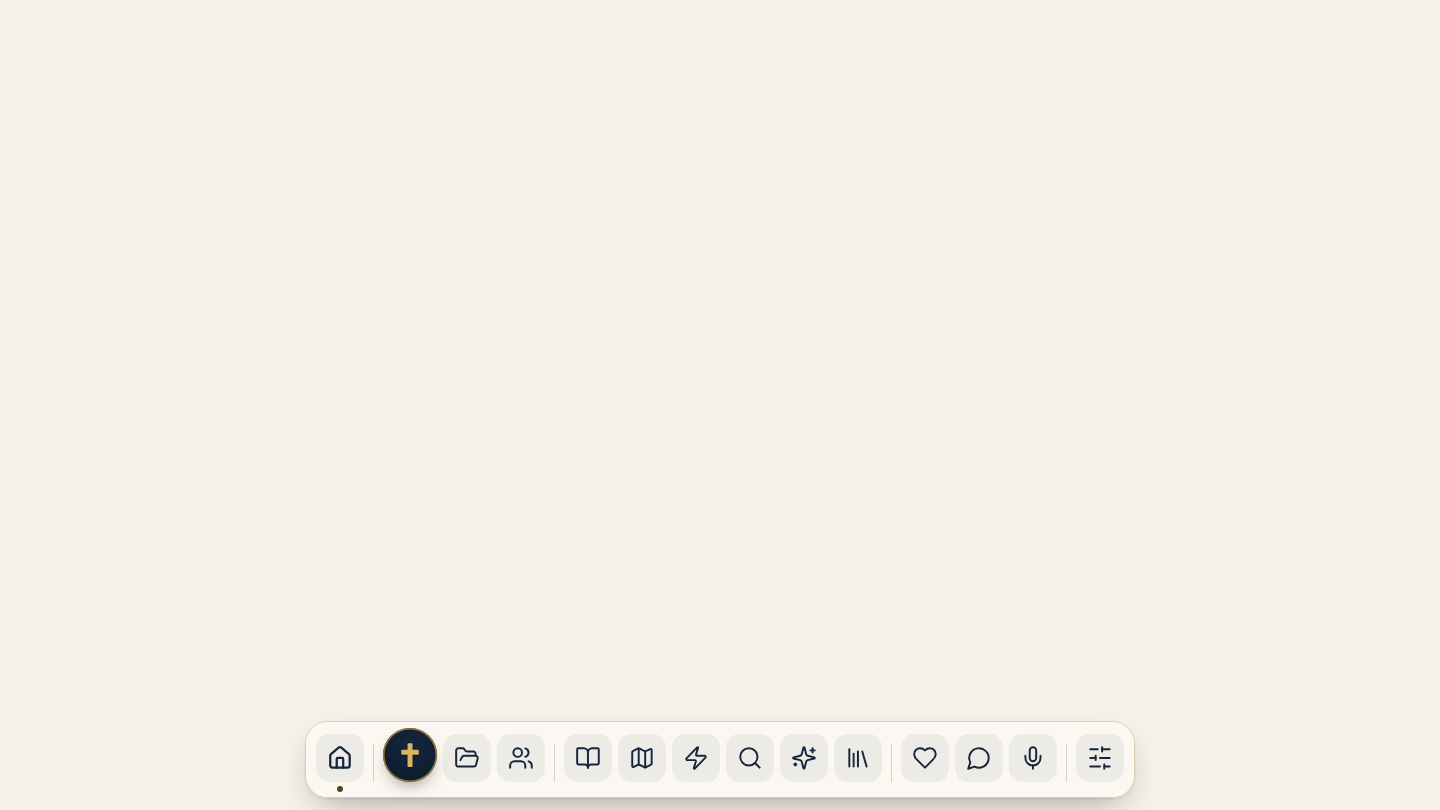
Dock (versão web) › Ajustes abre um painel fixo com idioma, tamanho do texto, aparência e sair
The image size is (1440, 810).
Click the button named "Ajustes" at (1100, 758), box 1076,734 -> 1124,782
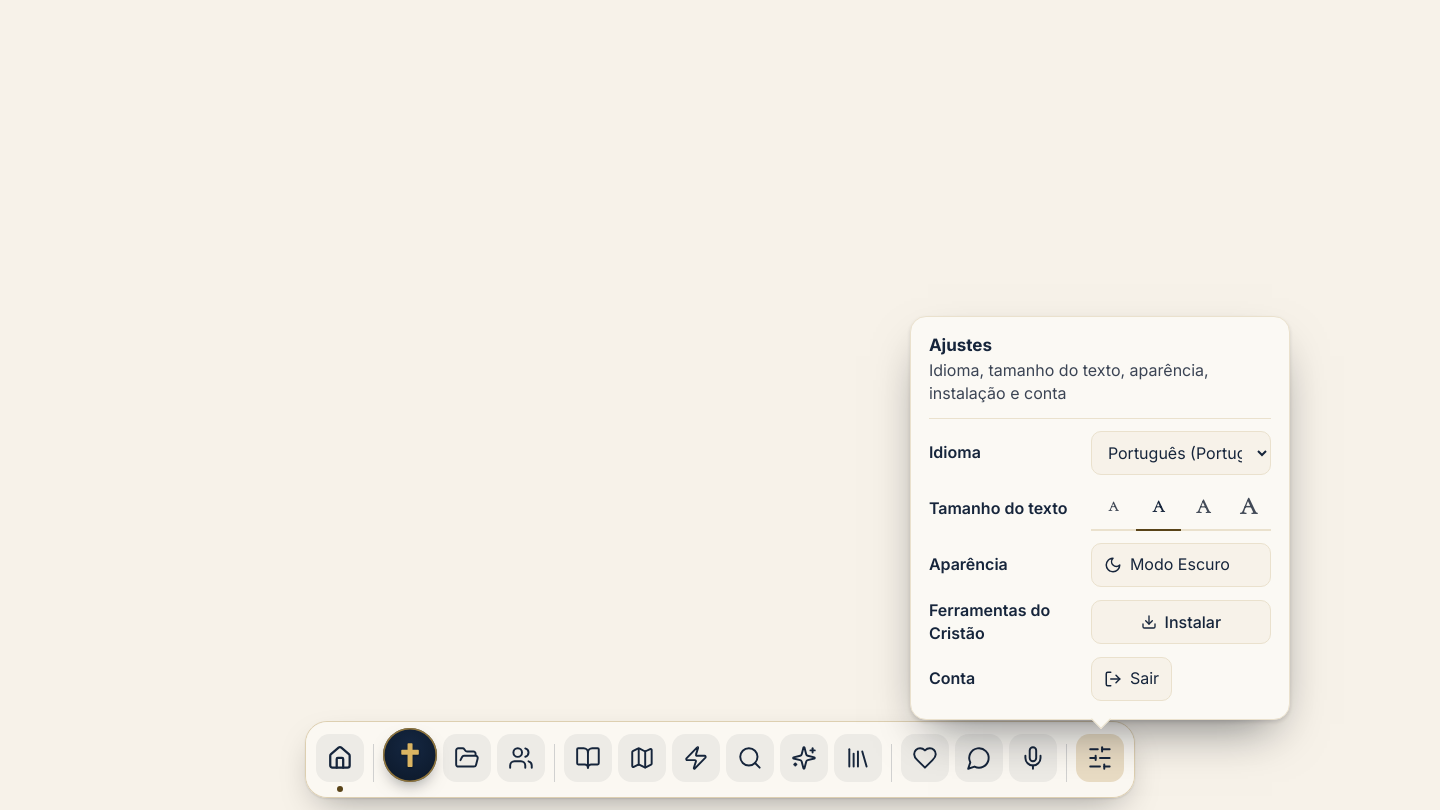
Expected: the dialog "Ajustes" shows "Idioma", 929,442 -> 981,462
Expected: the dialog "Ajustes" shows "tamanho do texto", 929,498 -> 1067,518
Expected: the button "Sair" is shown, 1091,657 -> 1172,701
Click the button named "Ajustes" at (1100, 758), box 1076,734 -> 1124,782
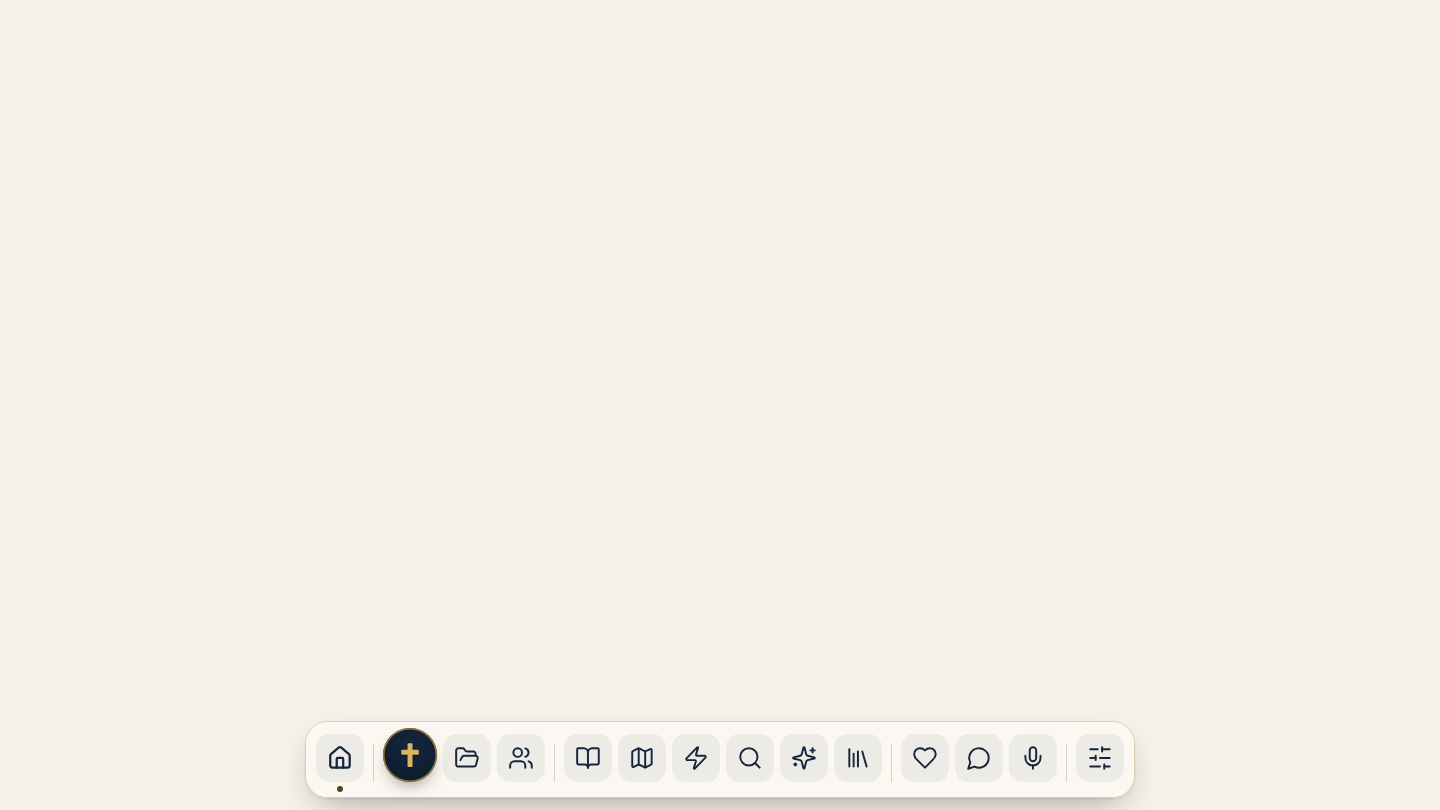
Expected: the dialog is gone
